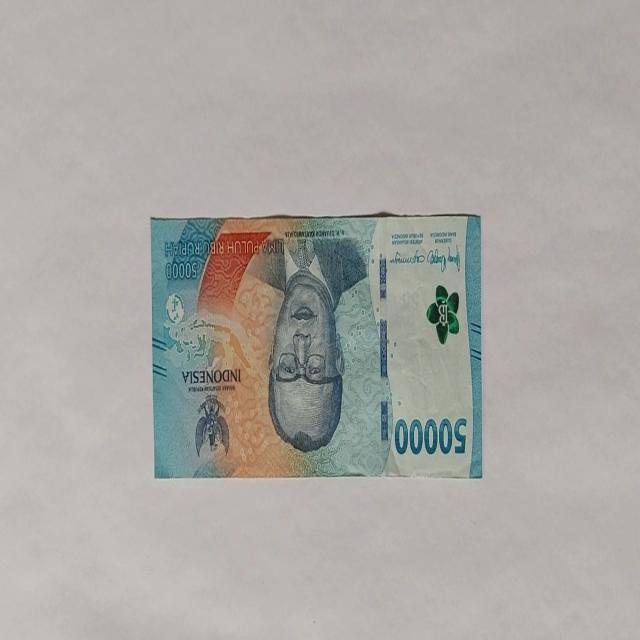lima puluh ribu rupiah: (150, 212, 482, 480)
